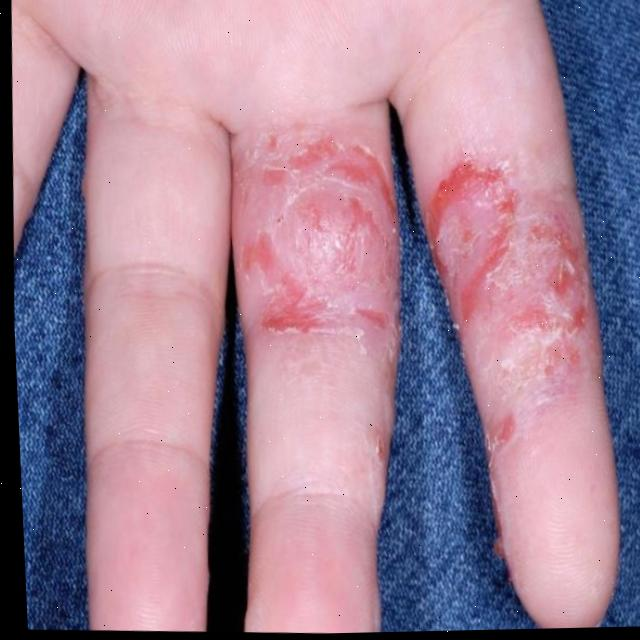Eczema: (235, 137, 552, 390)
